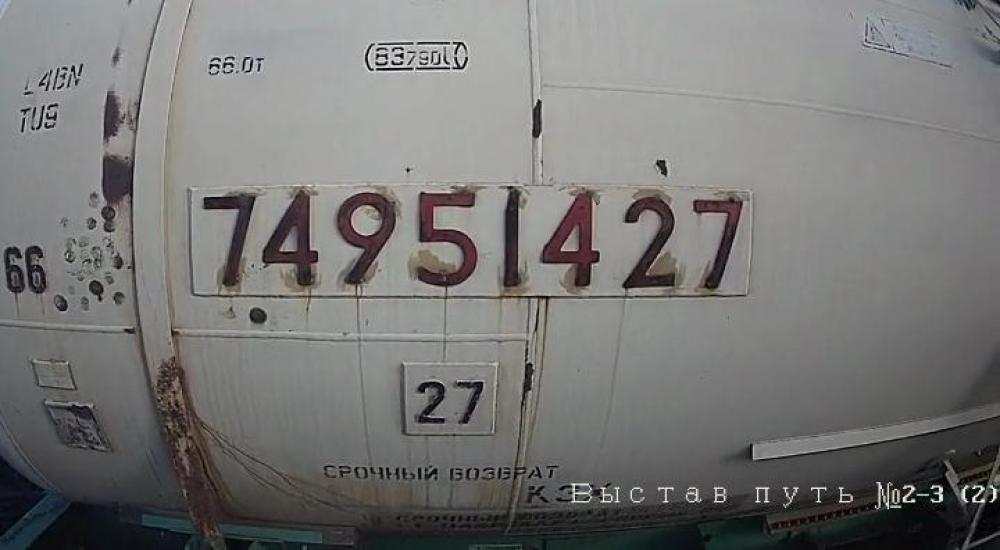Wagon-number: (193, 187, 752, 297)
